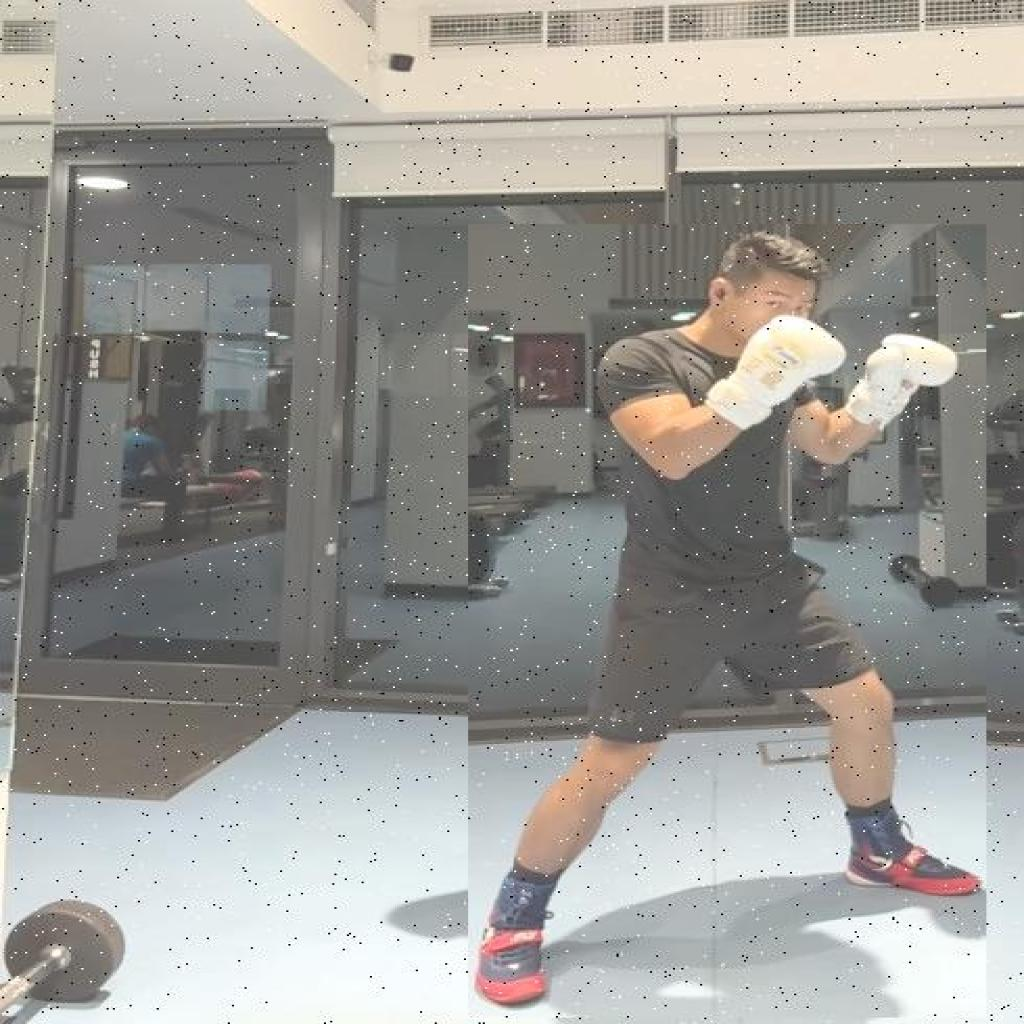no punch: (468, 224, 986, 1017)
